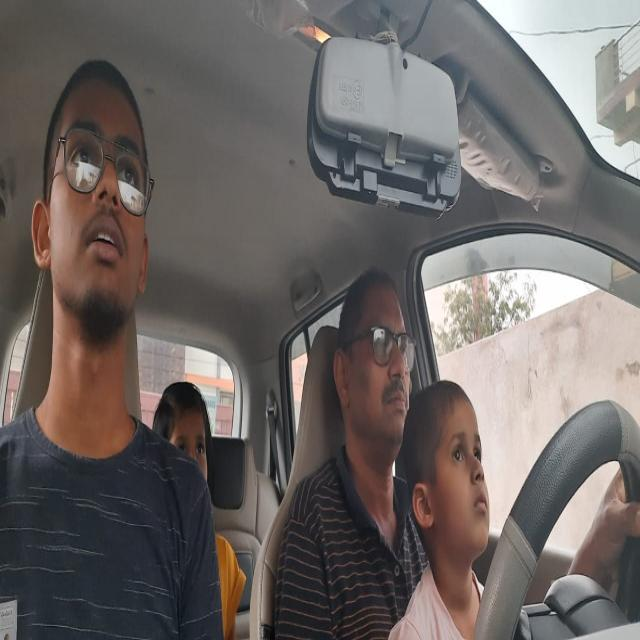person: (26, 37, 157, 362), (404, 380, 500, 560), (335, 258, 417, 451), (154, 380, 226, 484)
